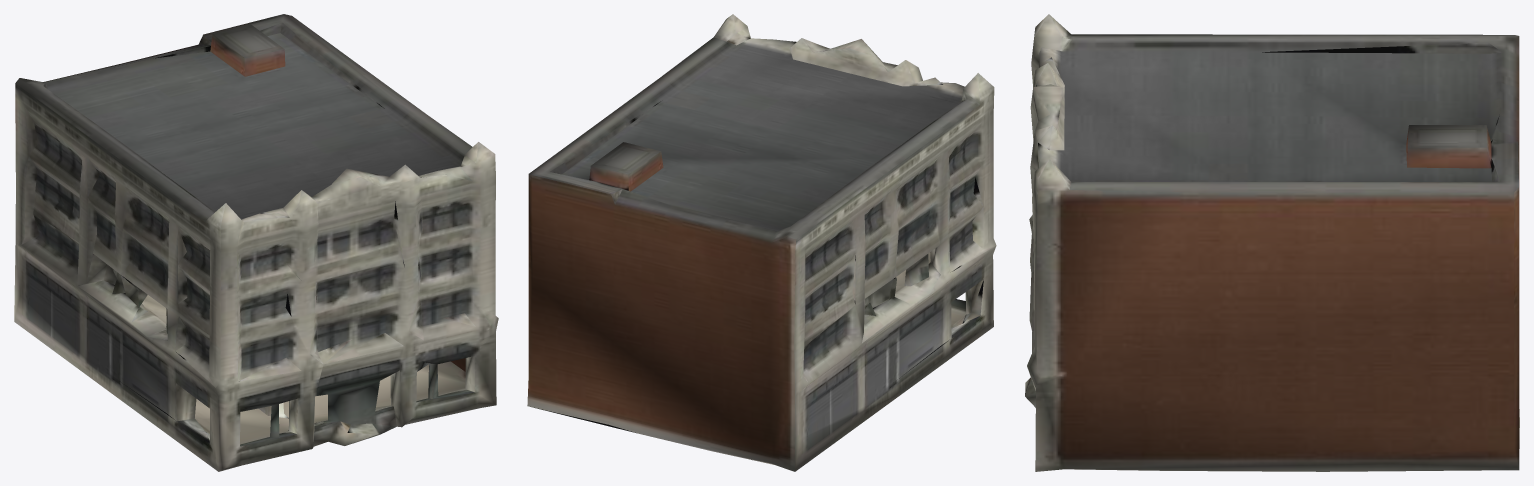
File: gen_low2_terracotta_comm.glb
The picture shows the model from 3 angles, left to right: view 1: azimuth 30°, elevation 25°; view 2: azimuth 150°, elevation 25°; view 3: azimuth 270°, elevation 25°; orthographic projection. The views are drawn at different scales.
Parts seen in each view (by area): view 1: gen_low2_terracotta_comm; view 2: gen_low2_terracotta_comm; view 3: gen_low2_terracotta_comm.
Part boxes in pixels (x1,y1,x2,y2): gen_low2_terracotta_comm: (14, 14, 498, 471); gen_low2_terracotta_comm: (527, 14, 996, 471); gen_low2_terracotta_comm: (1025, 14, 1519, 471).
Size of the model in its own units: 20 by 17.7 by 25.8.
1 material, 1 textured.
